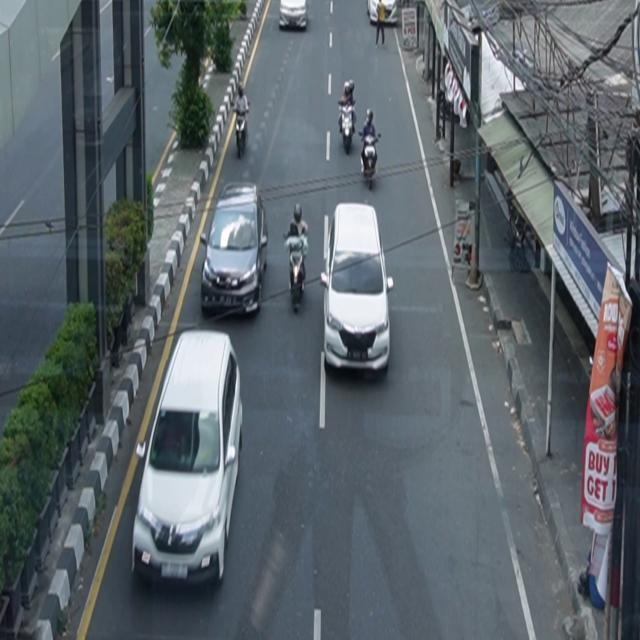car: (132, 330, 244, 589), (321, 202, 394, 375), (201, 183, 269, 318), (279, 1, 309, 31)
